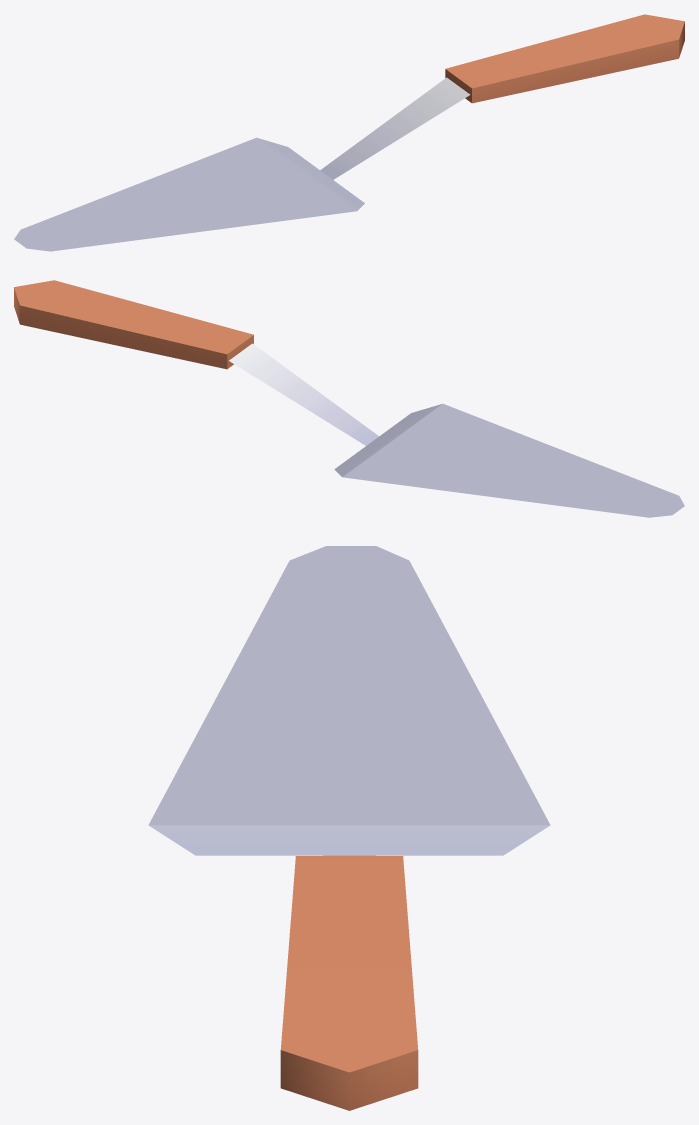
Rendered from cake-slicer.glb.
3 views of the same model, one above another, from view 1: azimuth 30°, elevation 25°; view 2: azimuth 150°, elevation 25°; view 3: azimuth 270°, elevation 25° (orthographic). The views are drawn at different scales.
Parts seen in each view (by area): view 1: cake-slicer; view 2: cake-slicer; view 3: cake-slicer.
Part boxes in pixels (x1,y1,x2,y2): cake-slicer: (14,14,684,251); cake-slicer: (14,280,684,517); cake-slicer: (148,546,550,1110).
Size of the model in its own units: 0.7246 by 0.0693 by 0.19.
Materials: 1 (1 with a texture image).
